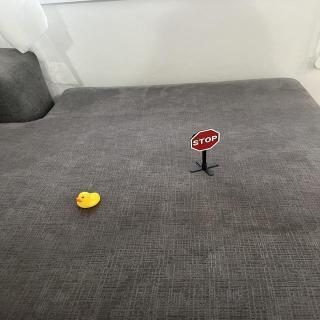duck_regular: (77, 191, 103, 211)
sign_stop: (190, 128, 223, 154)
